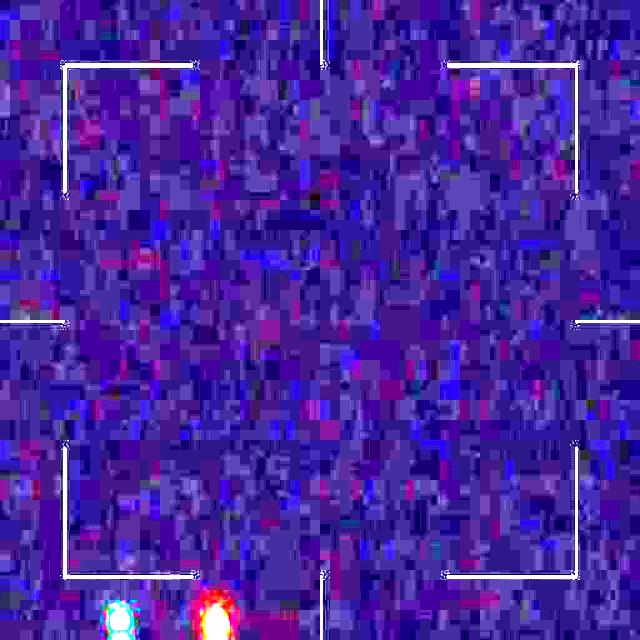bird: (108, 602, 229, 640)
